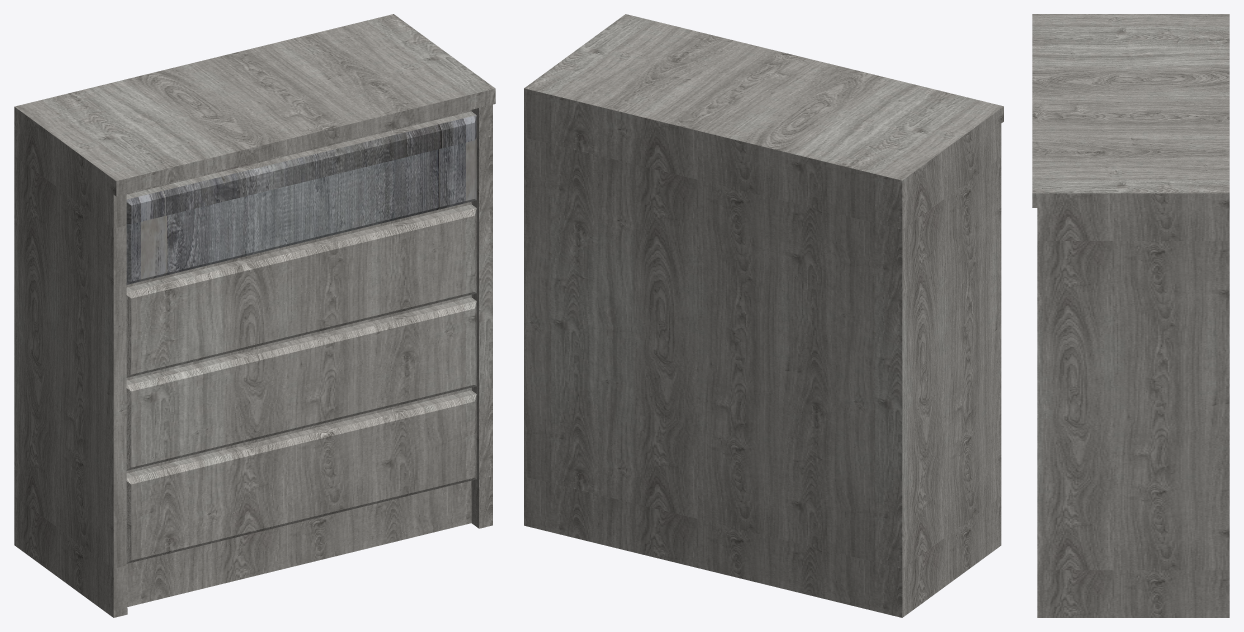
Rendered from bedside.gltf.
3 views of the same model, side by side, from view 1: azimuth 30°, elevation 25°; view 2: azimuth 150°, elevation 25°; view 3: azimuth 270°, elevation 25° (orthographic). The views are drawn at different scales.
Parts seen in each view (by area): view 1: Box001; view 2: Box001; view 3: Box001.
Boxes of the visible parts, x1,y1,x2,y2 form: Box001: (14,14,495,617); Box001: (524,14,1003,617); Box001: (1032,14,1229,617).
Bounding box in the file's own units: 0.86 × 0.95 × 0.4.
2 materials, 2 textured.
